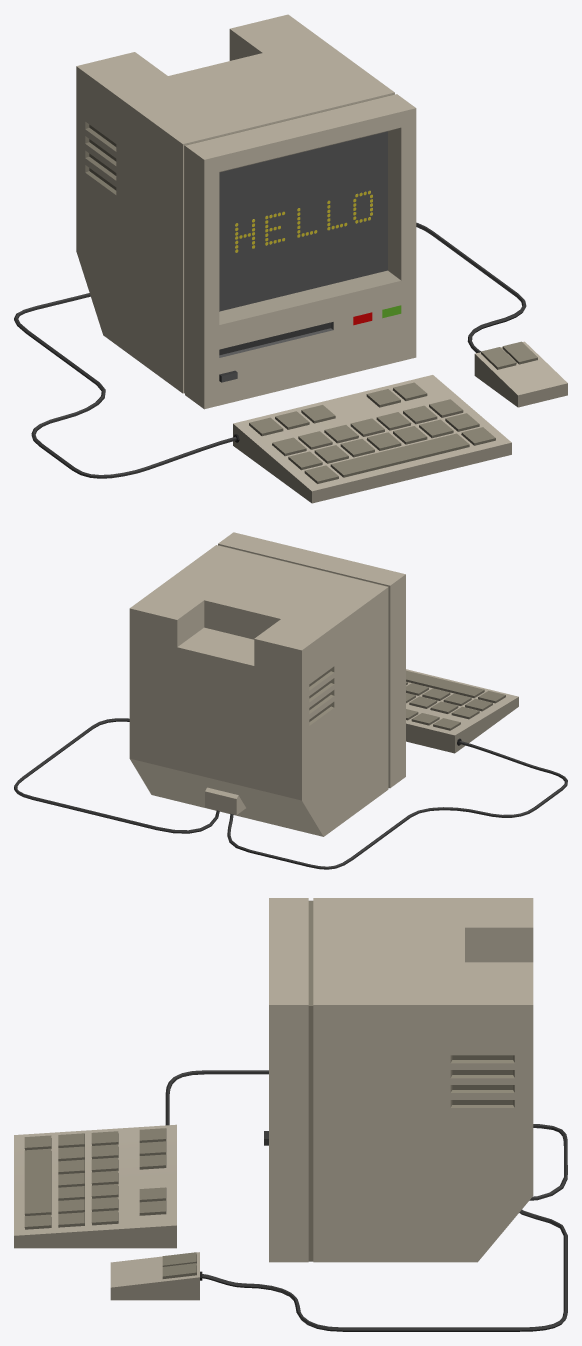
File: pc_lowpoly.fbx
3 views of the same model, one above another, from view 1: azimuth 30°, elevation 25°; view 2: azimuth 150°, elevation 25°; view 3: azimuth 270°, elevation 25° (orthographic). The views are drawn at different scales.
Visible parts, largest first — view 1: monitor, keyboard.001, keyboard, mouse.001, cabel1, cabel2, mouse, monitor.001; view 2: monitor, keyboard, keyboard.001, cabel1, cabel2; view 3: monitor, keyboard.001, keyboard, mouse.001, cabel2, cabel1, mouse.
Part boxes in pixels (box(x1,y1,x2,y2)): monitor: box(76, 14, 416, 409); keyboard.001: box(233, 375, 511, 503); keyboard: box(249, 382, 495, 483); mouse.001: box(474, 341, 567, 407); cabel1: box(14, 293, 236, 478); cabel2: box(416, 222, 526, 353); mouse: box(481, 341, 537, 369); monitor.001: box(235, 190, 372, 252); monitor: box(129, 532, 405, 836); keyboard: box(406, 670, 505, 730); keyboard.001: box(406, 669, 518, 753); cabel1: box(227, 741, 567, 869); cabel2: box(14, 718, 219, 833); monitor: box(264, 898, 533, 1262); keyboard.001: box(14, 1124, 176, 1248); keyboard: box(24, 1128, 166, 1229); mouse.001: box(110, 1252, 199, 1300); cabel2: box(202, 1209, 567, 1331); cabel1: box(165, 1070, 567, 1200); mouse: box(162, 1252, 196, 1278).
Size of the model in its own units: 303 by 141 by 274.
